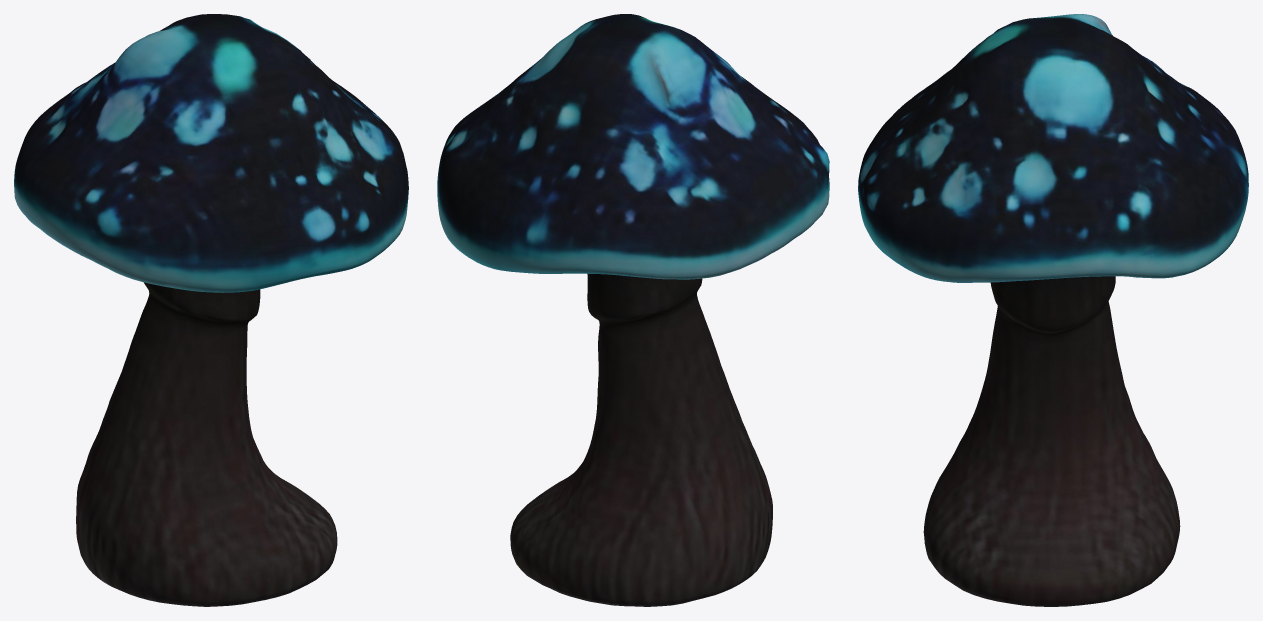
Rendered from grib.glb.
3 views of the same model, side by side, from view 1: azimuth 30°, elevation 25°; view 2: azimuth 150°, elevation 25°; view 3: azimuth 270°, elevation 25° (orthographic).
Parts seen in each view (by area): view 1: mesh_base_material_0; view 2: mesh_base_material_0; view 3: mesh_base_material_0.
Part boxes in pixels (x1,y1,x2,y2): mesh_base_material_0: (14, 14, 408, 606); mesh_base_material_0: (437, 14, 829, 606); mesh_base_material_0: (858, 14, 1248, 606).
Size of the model in its own units: 0.6691 by 0.9995 by 0.6627.
1 material, 1 textured.
